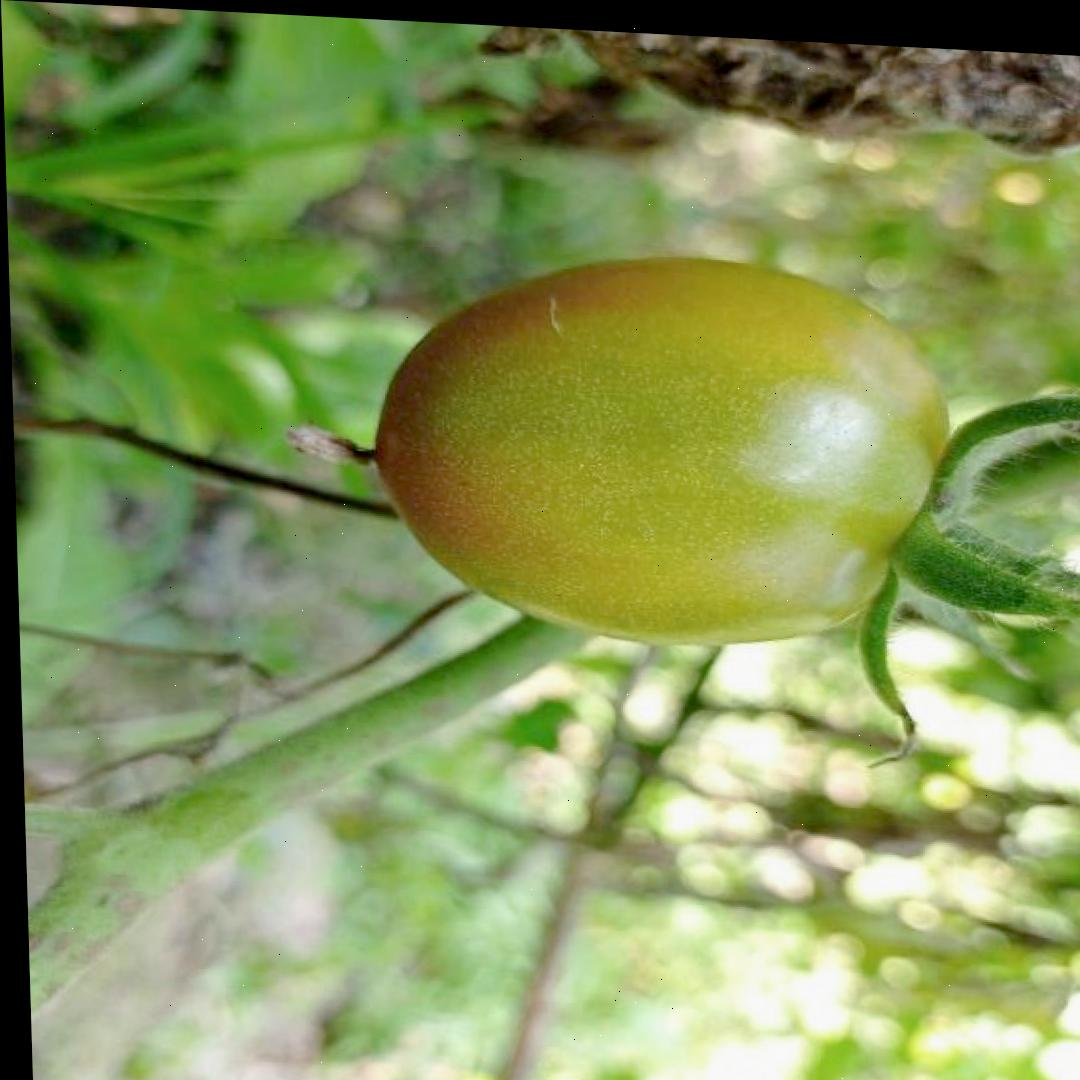setengah_matang: (362, 237, 961, 666)
